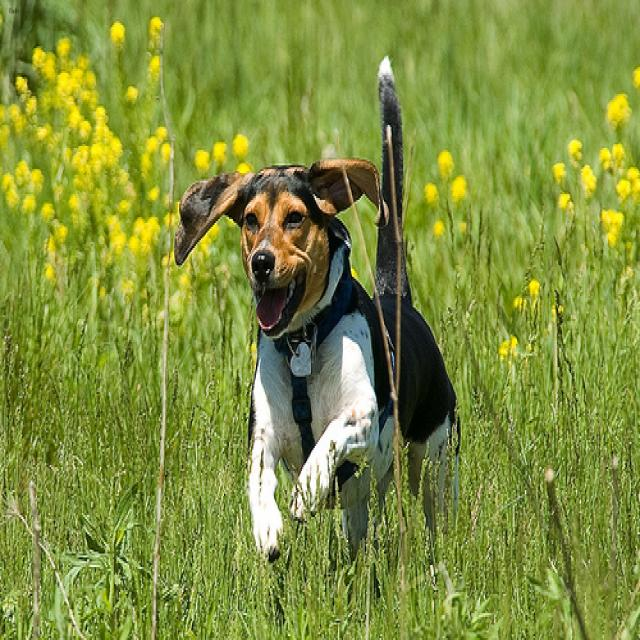dog-beagle: (163, 144, 467, 565)
